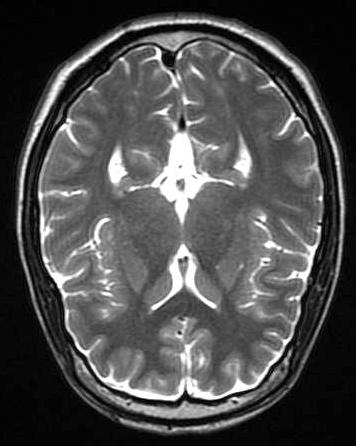Normal_Brain: (8, 1, 353, 444)
